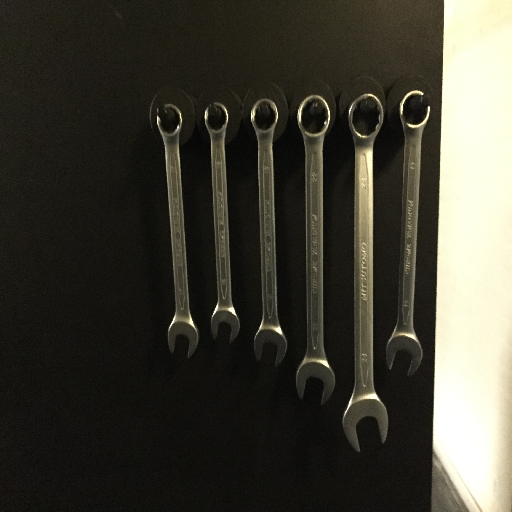bottom: (340, 394, 390, 453), (294, 354, 336, 406), (384, 330, 426, 380), (252, 323, 288, 369), (166, 315, 199, 359), (208, 308, 242, 346)
top: (346, 91, 384, 141), (295, 93, 332, 141), (397, 88, 433, 134), (153, 103, 185, 142), (250, 97, 280, 137), (203, 100, 231, 137)
